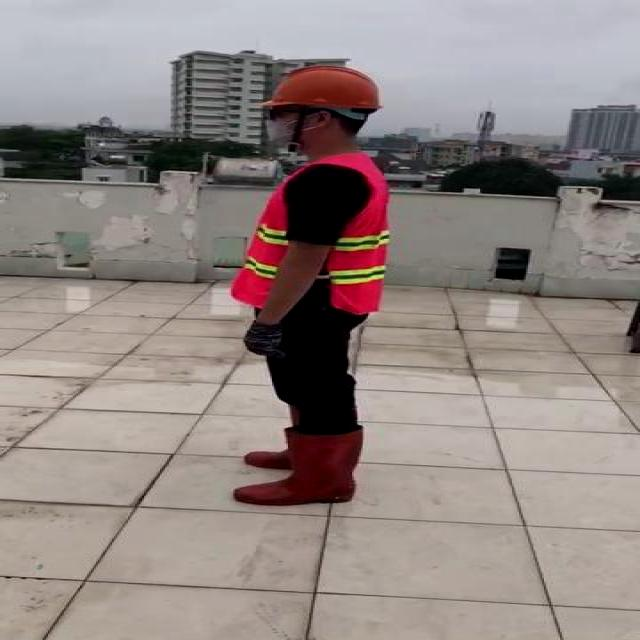boots: (234, 422, 372, 506), (236, 403, 329, 469)
face_mask: (255, 100, 330, 148)
hand_glove: (234, 321, 292, 358)
head_helmet: (260, 61, 382, 116)
person: (212, 56, 406, 512)
vest: (228, 147, 391, 316)
